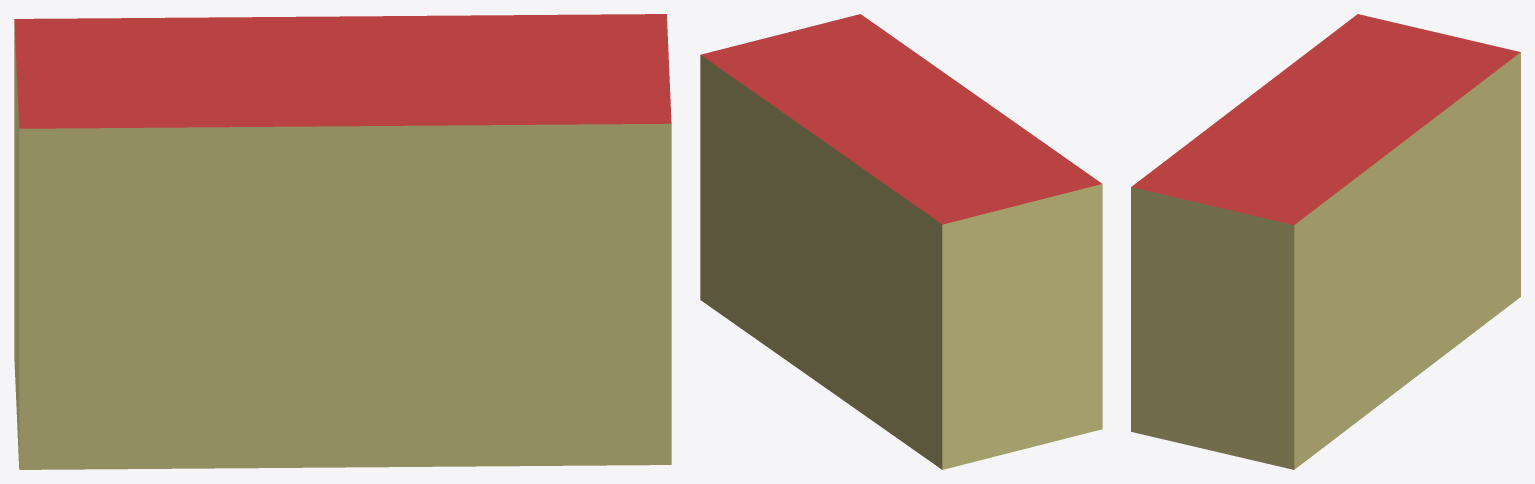
3 views of the same model, side by side, from view 1: azimuth 30°, elevation 25°; view 2: azimuth 150°, elevation 25°; view 3: azimuth 270°, elevation 25° (orthographic). The views are drawn at different scales.
Size of the model in its own units: 10.5 by 8.19 by 5.67.
